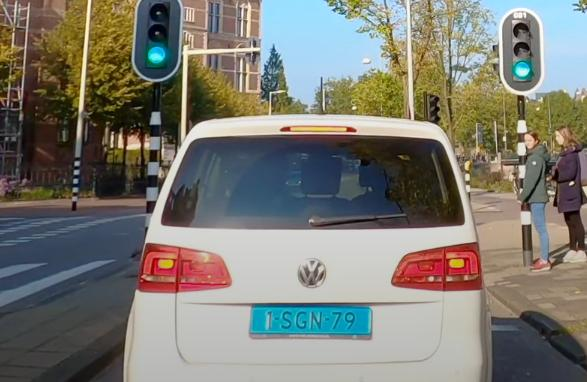license-plate: (249, 304, 373, 341)
